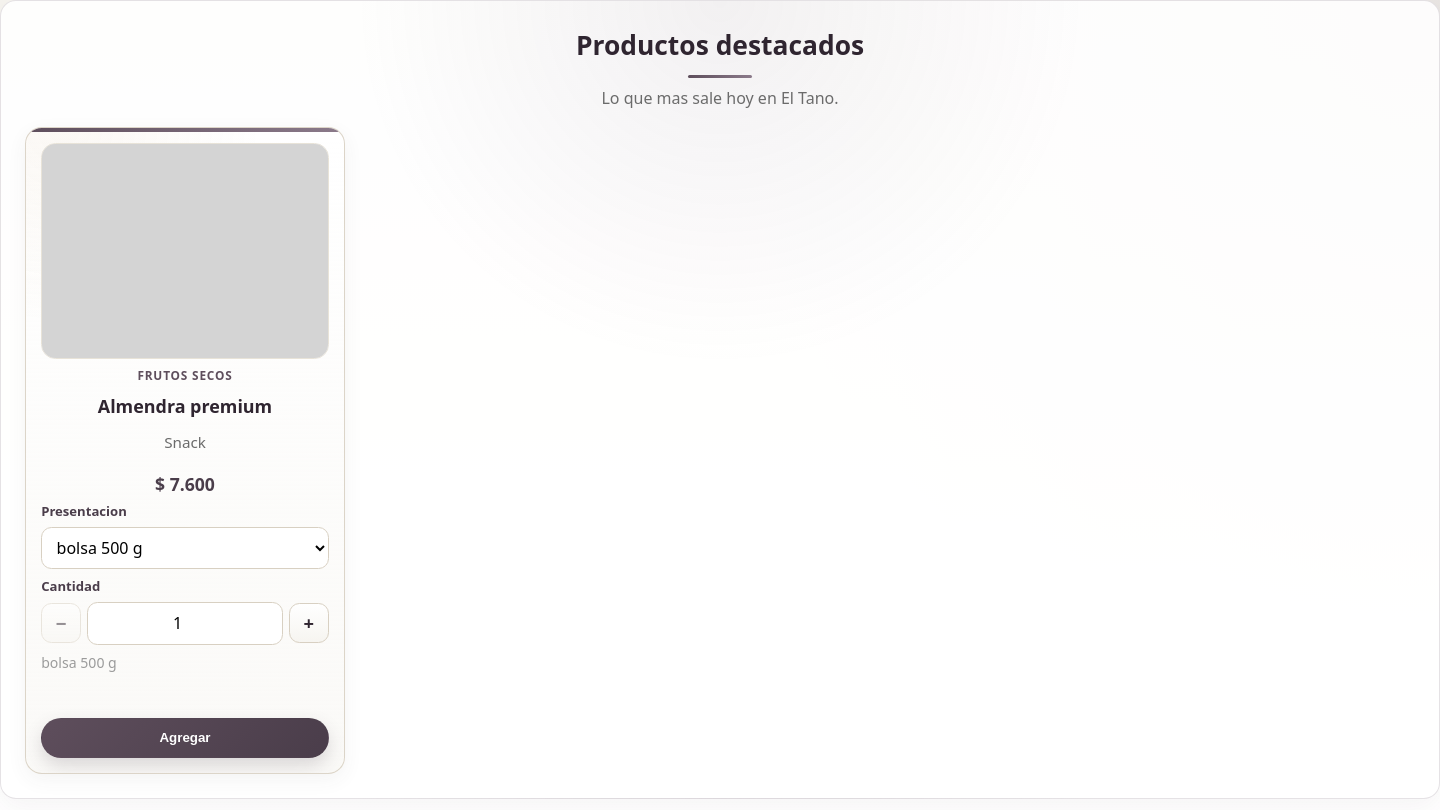
Test case: FeaturedProductsSection › disables quantity controls at the selected presentation limits
Select "bolsa 500 g" in the dropdown named "Presentacion para Almendra premium" at (185, 548), box [41,527,329,569]
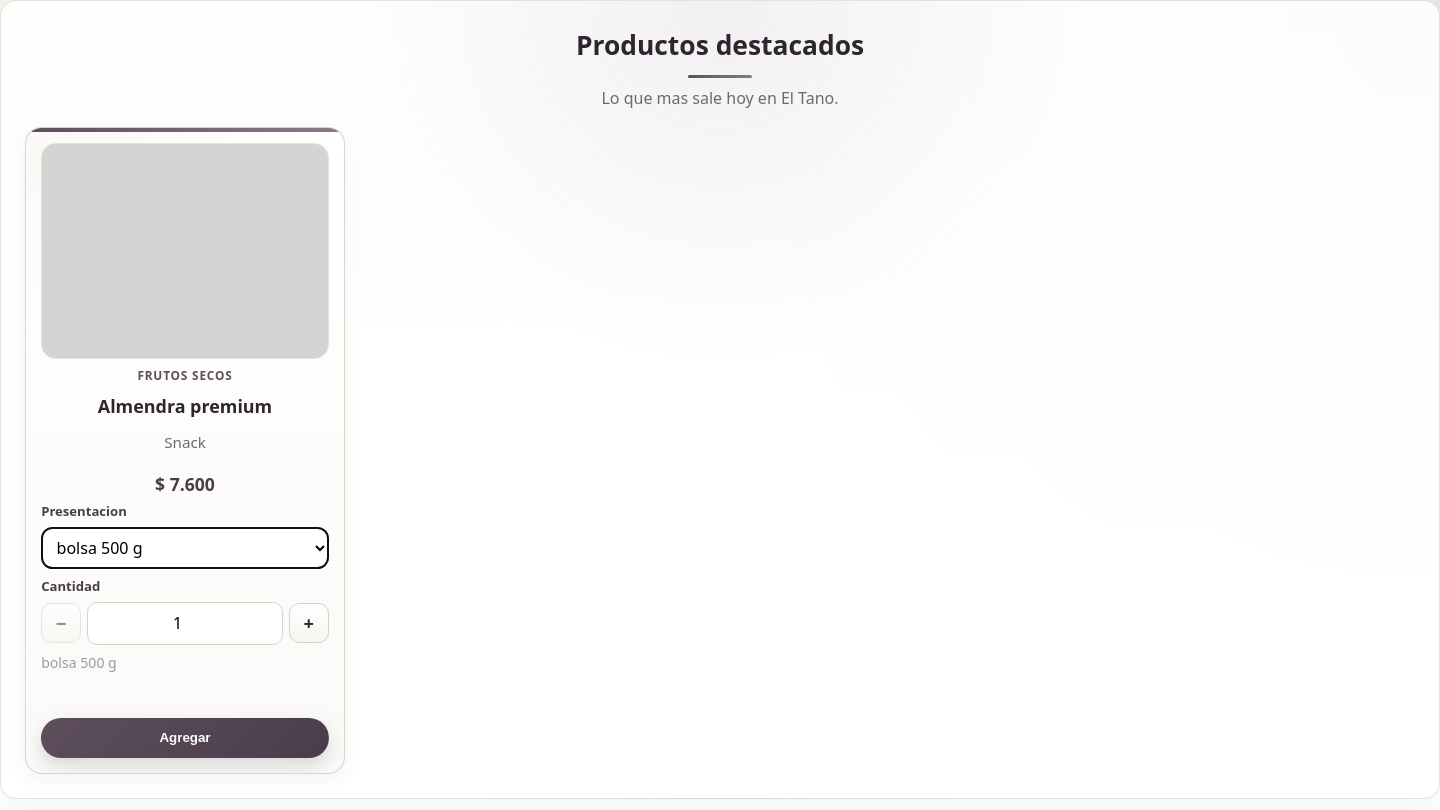
Expected: the button named "Reducir cantidad para Almendra premium" is disabled, [41,603,81,643]
Click the button named "Aumentar cantidad para Almendra premium" at (309, 623), box [289,603,329,643]
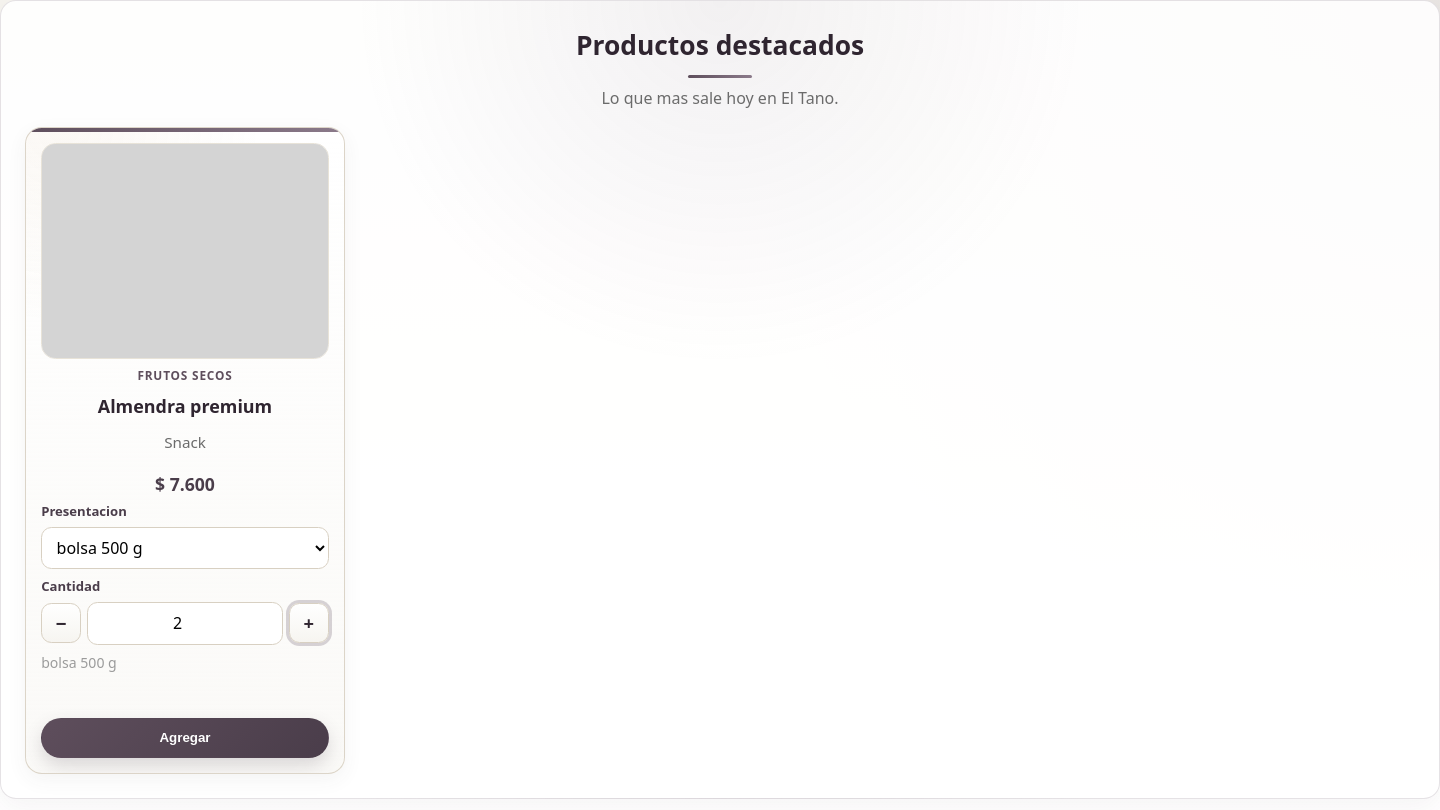
Click the button named "Aumentar cantidad para Almendra premium" at (309, 623), box [289,603,329,643]
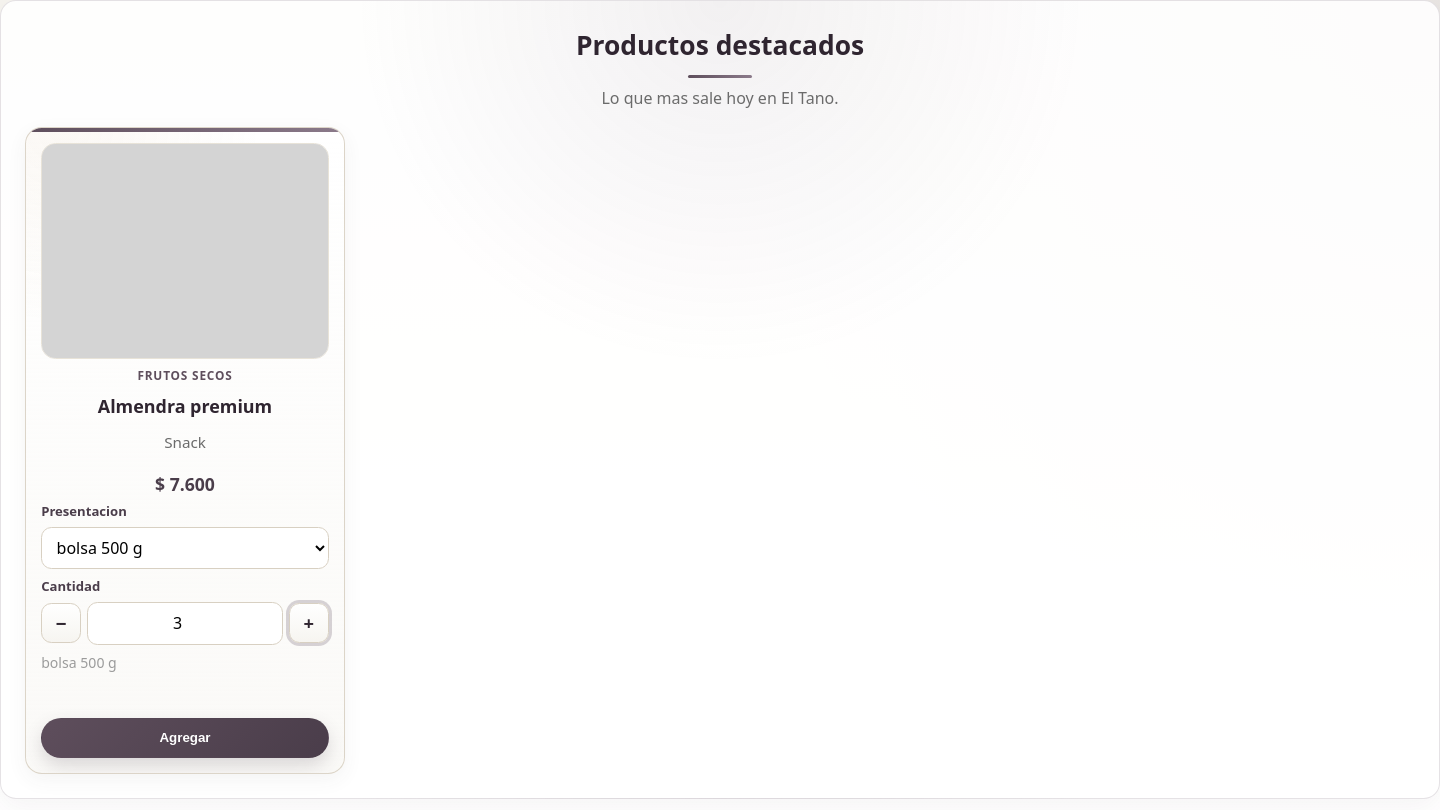
Click the button named "Aumentar cantidad para Almendra premium" at (309, 623), box [289,603,329,643]
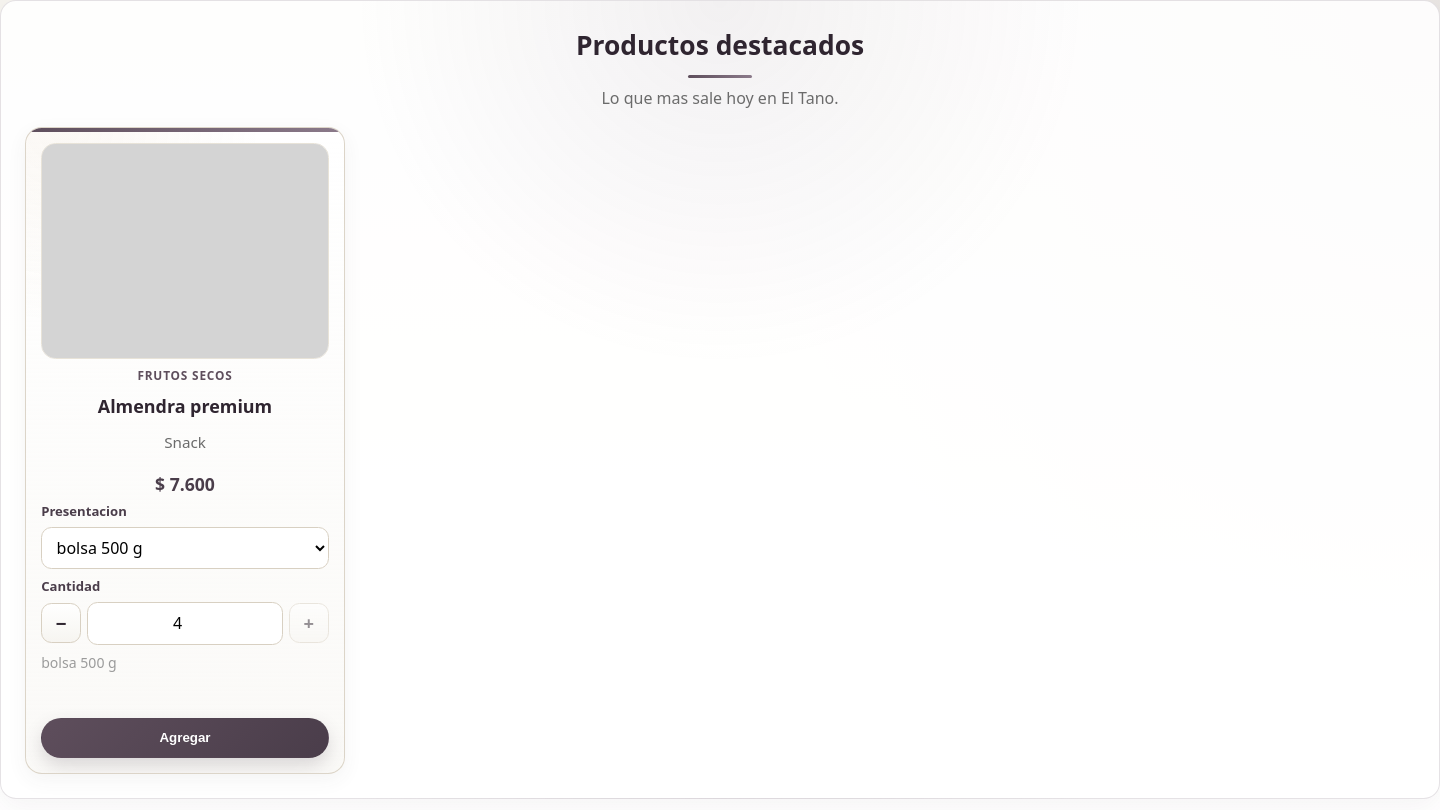
Expected: the button named "Reducir cantidad para Almendra premium" is enabled, [41,603,81,643]
Expected: the number field named "Cantidad para Almendra premium" holds "4", [87,602,283,645]
Expected: the button named "Aumentar cantidad para Almendra premium" is disabled, [289,603,329,643]
